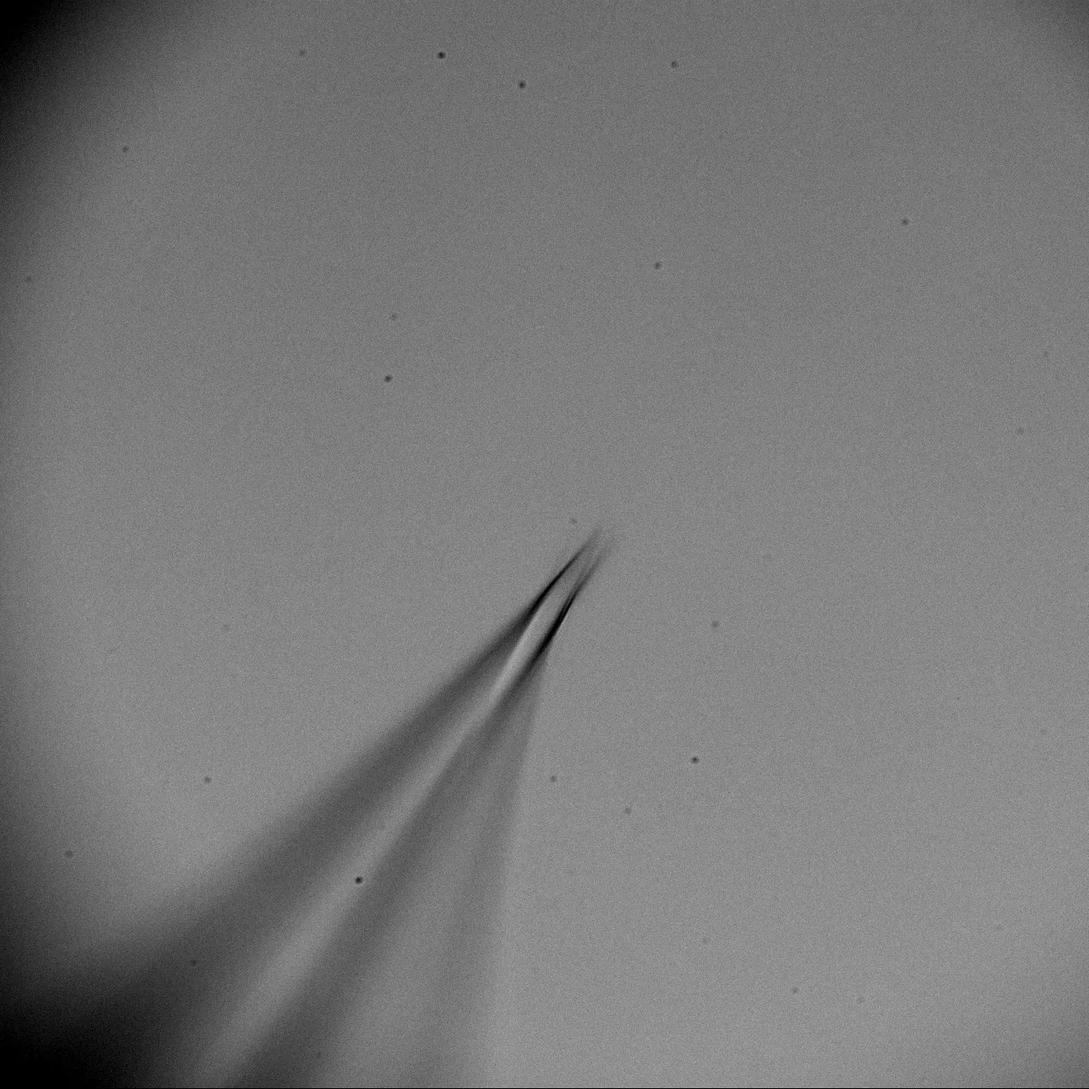tip: (452, 493, 629, 730)
